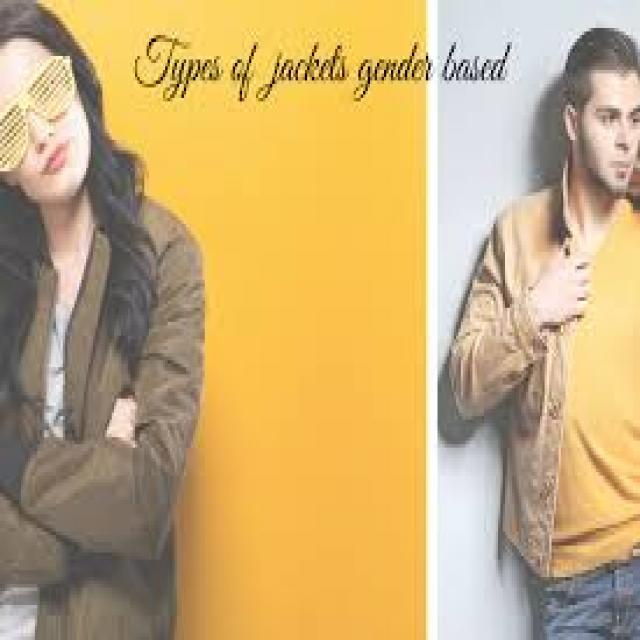Jacket: (0, 200, 212, 640), (437, 166, 640, 585)
